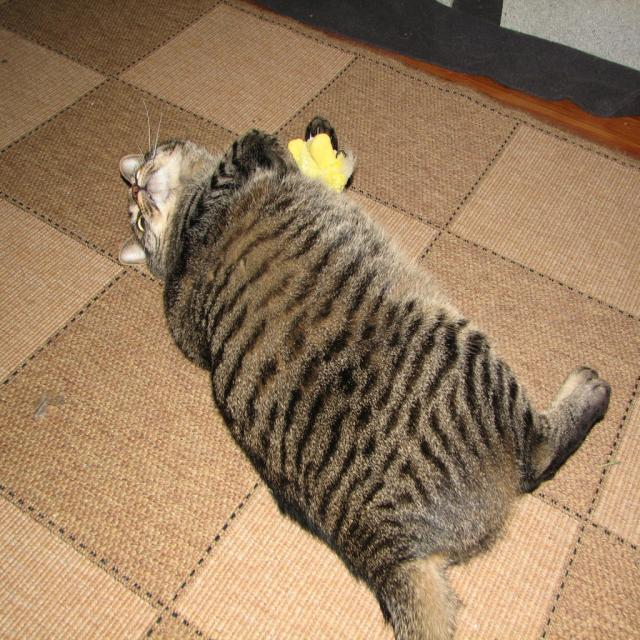Cat: (115, 95, 610, 637)
